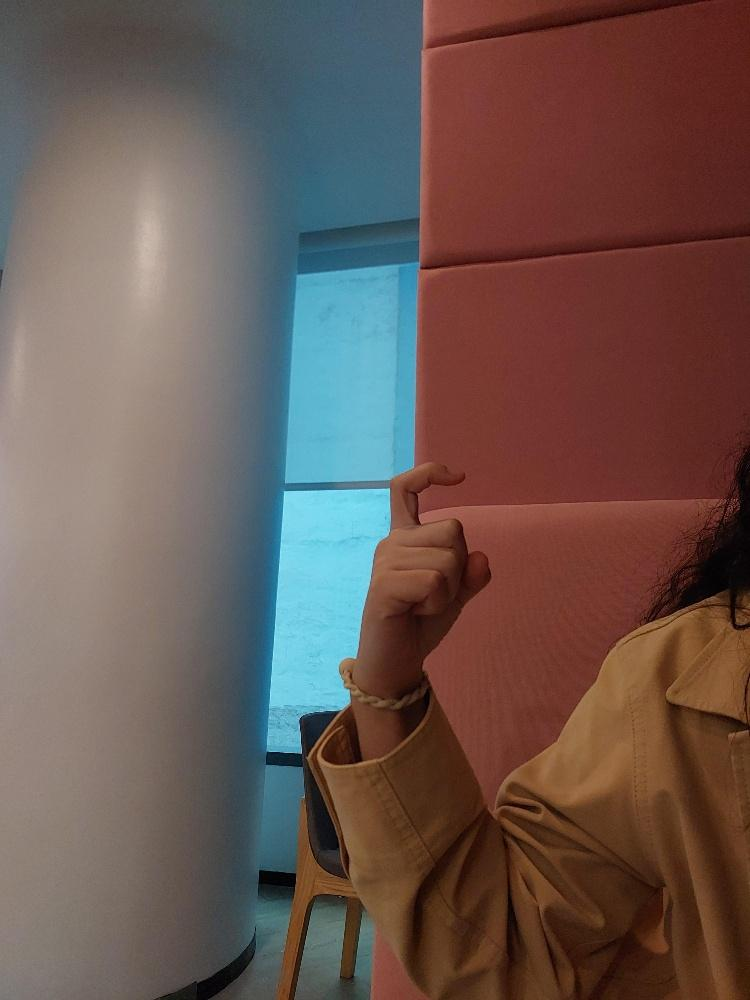x: (342, 451, 498, 707)
